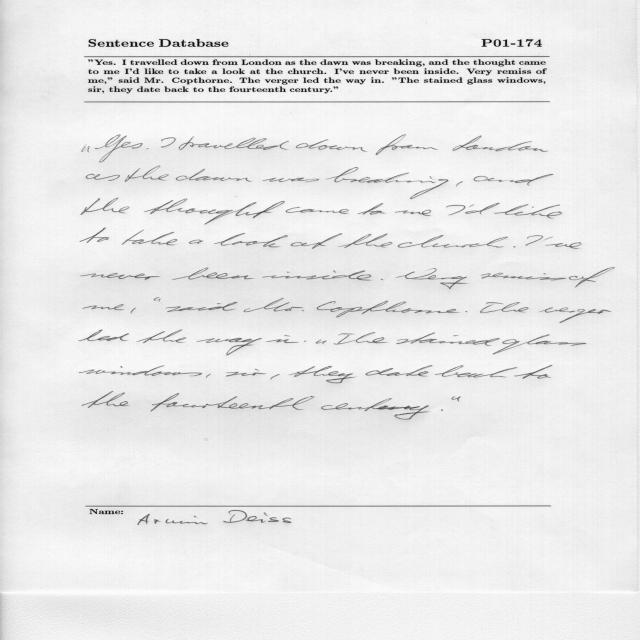word: (326, 167, 449, 199), (144, 199, 285, 225), (396, 268, 566, 289), (150, 393, 314, 411), (321, 398, 443, 420), (289, 366, 433, 384), (317, 301, 459, 318), (493, 335, 586, 355), (453, 135, 549, 152), (179, 136, 289, 150), (398, 235, 515, 248), (396, 332, 500, 346), (79, 366, 202, 377), (95, 135, 143, 163), (376, 135, 438, 155), (539, 307, 611, 323), (196, 338, 262, 355), (262, 271, 372, 281), (172, 267, 254, 280), (214, 233, 288, 247), (494, 204, 562, 219), (176, 169, 252, 182), (435, 366, 517, 378), (474, 174, 554, 186), (296, 139, 368, 152), (569, 268, 615, 288), (122, 230, 178, 246), (243, 298, 304, 312), (81, 198, 129, 215), (291, 233, 342, 249), (338, 233, 392, 248), (82, 391, 129, 408), (395, 205, 465, 216), (166, 302, 237, 312), (125, 166, 169, 182), (334, 332, 387, 345), (137, 330, 186, 343), (81, 273, 161, 280), (79, 330, 129, 341), (480, 302, 529, 313), (515, 365, 553, 379), (285, 207, 349, 214), (131, 298, 159, 314), (80, 228, 109, 243), (465, 203, 500, 215), (358, 203, 385, 215), (266, 335, 299, 343), (546, 242, 582, 249), (83, 304, 124, 310), (86, 174, 120, 181), (263, 178, 319, 182), (526, 235, 544, 246), (161, 137, 176, 148), (226, 372, 266, 376), (82, 144, 89, 152), (189, 240, 203, 244), (271, 374, 280, 380), (452, 396, 461, 402), (316, 340, 327, 344), (456, 181, 463, 187), (544, 237, 553, 241), (206, 374, 211, 378), (469, 205, 474, 208), (333, 270, 336, 273), (158, 299, 161, 302), (255, 369, 259, 371), (304, 340, 306, 342), (147, 148, 149, 149), (381, 279, 383, 280), (466, 311, 468, 312)
